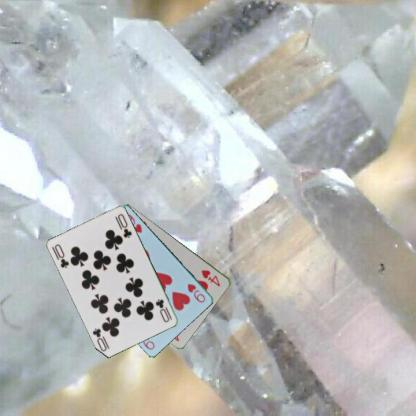10c: (153, 296, 173, 324), (52, 242, 70, 269)
4h: (199, 267, 222, 288)
9h: (185, 281, 207, 304)
